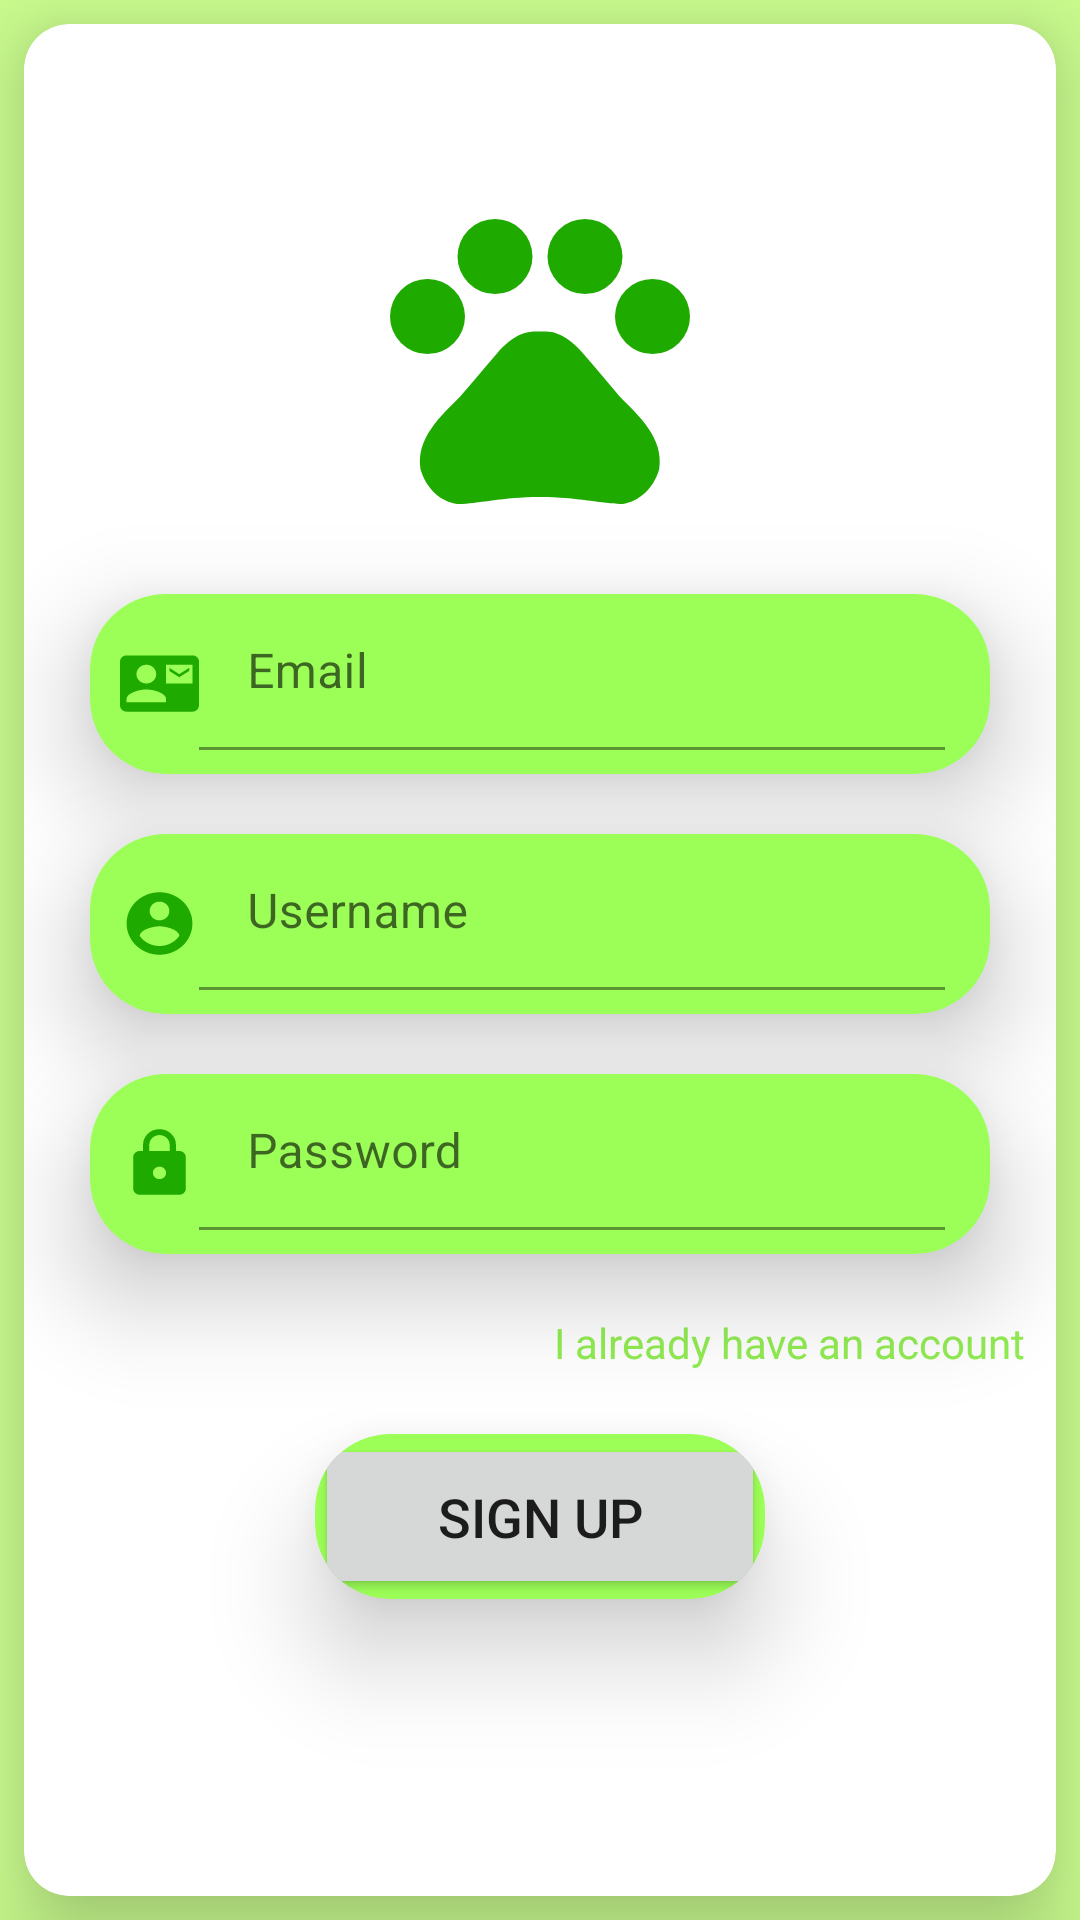

Icon click points for this 1080×1920 phone screenshot, format (x,y):
account circle: (159,923)
contact mail: (159,683)
lock: (159,1162)
pets: (540,361)
